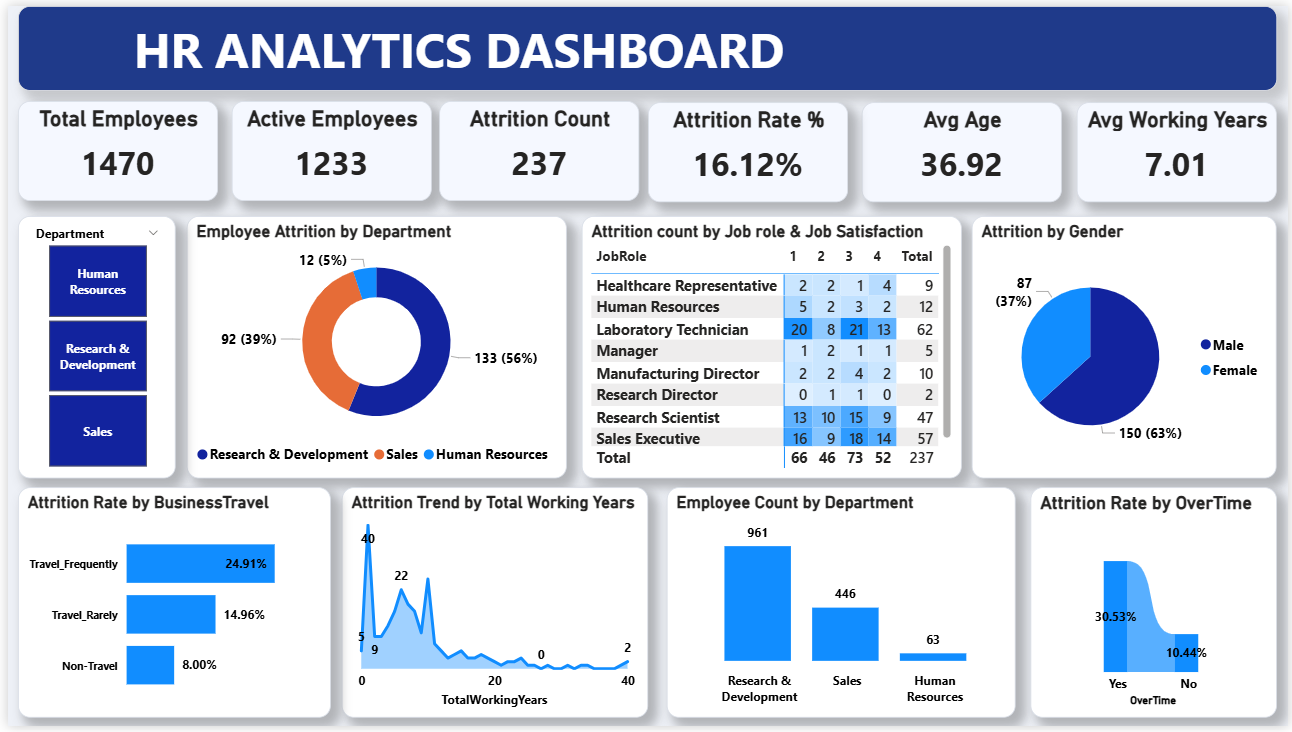

What the dashboard file says about the page in this screenshot:
{"tool":"powerbi","page":{"name":"Page 1","canvas":[1280,720],"ordinal":0},"visuals":[{"type":"textbox","box":[10,0,1259,85],"z":0},{"type":"card","title":"Total Employees","fields":{"Values":["CountNonNull(employee_attrition_cleaned.EmployeeNumber)"]},"box":[10,95,200,100],"z":1000},{"type":"card","title":"Active Employees","fields":{"Values":["CountNonNull(employee_attrition_cleaned.EmployeeCount)"]},"box":[223.2,95.3,200,100.1],"z":2000},{"type":"card","title":"Attrition Count","fields":{"Values":["Sum(employee_attrition_cleaned.AttritionCount)"]},"box":[430.7,95.3,200.3,100.1],"z":3000},{"type":"card","title":"Avg Age","fields":{"Values":["Avg(employee_attrition_cleaned.Age)"]},"box":[854.2,96.5,200.3,100.1],"z":4000},{"type":"card","title":"Avg Working Years","fields":{"Values":["Avg(employee_attrition_cleaned.YearsAtCompany)"]},"box":[1068.9,96.5,200.3,100.1],"z":5000},{"type":"card","title":"Attrition Rate %","fields":{"Values":["employee_attrition_cleaned.Attrition Rate %"]},"box":[640.1,96.3,200,100],"z":6000},{"type":"donutChart","title":"Employee Attrition by Department","fields":{"Category":["employee_attrition_cleaned.Department"],"Y":["Sum(employee_attrition_cleaned.AttritionCount)"]},"box":[178.8,210,380,262.5],"z":7000},{"type":"pivotTable","title":"Attrition count by Job role & Job Satisfaction","fields":{"Rows":["employee_attrition_cleaned.JobRole"],"Values":["Sum(employee_attrition_cleaned.AttritionCount)"],"Columns":["employee_attrition_cleaned.JobSatisfaction"]},"box":[573.8,210,380,262.5],"z":8000},{"type":"pieChart","title":"Attrition by Gender","fields":{"Category":["employee_attrition_cleaned.Gender"],"Y":["Sum(employee_attrition_cleaned.AttritionCount)"]},"box":[963.8,210,305,262.5],"z":9000},{"type":"areaChart","title":"Attrition Trend by Total Working Years","fields":{"Category":["employee_attrition_cleaned.TotalWorkingYears"],"Y2":["Sum(employee_attrition_cleaned.AttritionCount)"]},"box":[333.8,481.2,306.2,230],"z":10000},{"type":"clusteredColumnChart","title":"Employee Count by Department","fields":{"Category":["employee_attrition_cleaned.Department"],"Y":["Sum(employee_attrition_cleaned.EmployeeCount)"]},"box":[658.8,481.2,348.8,230],"z":11000},{"type":"ribbonChart","title":"Attrition Rate by OverTime","fields":{"Category":["employee_attrition_cleaned.OverTime"],"Y":["employee_attrition_cleaned.Attrition Rate %"]},"box":[1022.5,481.2,246.2,230],"z":12000},{"type":"slicer","fields":{"Values":["employee_attrition_cleaned.Department"]},"box":[10,210,157.5,262.5],"z":13000},{"type":"barChart","title":"Attrition Rate by BusinessTravel","fields":{"Category":["employee_attrition_cleaned.BusinessTravel"],"Y":["employee_attrition_cleaned.Attrition Rate %"]},"box":[10,481.2,312.5,230],"z":14000}]}

Visuals, with their boxes in screenshot pixels (x1, y1, x2, y2), scaled from the page's 1280x720 canvas onto the 1292x732 screenshot:
textbox: 10,0,1281,86
"Total Employees" card: 10,97,212,198
"Active Employees" card: 225,97,427,199
"Attrition Count" card: 435,97,637,199
"Avg Age" card: 862,98,1064,200
"Avg Working Years" card: 1079,98,1281,200
"Attrition Rate %" card: 646,98,848,200
"Employee Attrition by Department" donutChart: 180,214,564,480
"Attrition count by Job role & Job Satisfaction" pivotTable: 579,214,963,480
"Attrition by Gender" pieChart: 973,214,1281,480
"Attrition Trend by Total Working Years" areaChart: 337,489,646,723
"Employee Count by Department" clusteredColumnChart: 665,489,1017,723
"Attrition Rate by OverTime" ribbonChart: 1032,489,1281,723
slicer - employee_attrition_cleaned.Department: 10,214,169,480
"Attrition Rate by BusinessTravel" barChart: 10,489,326,723
